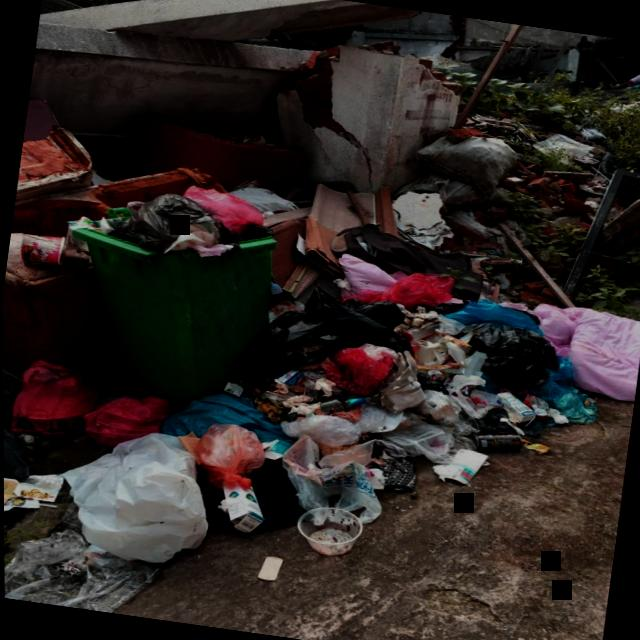Fall-Detected: (416, 273, 640, 424)
